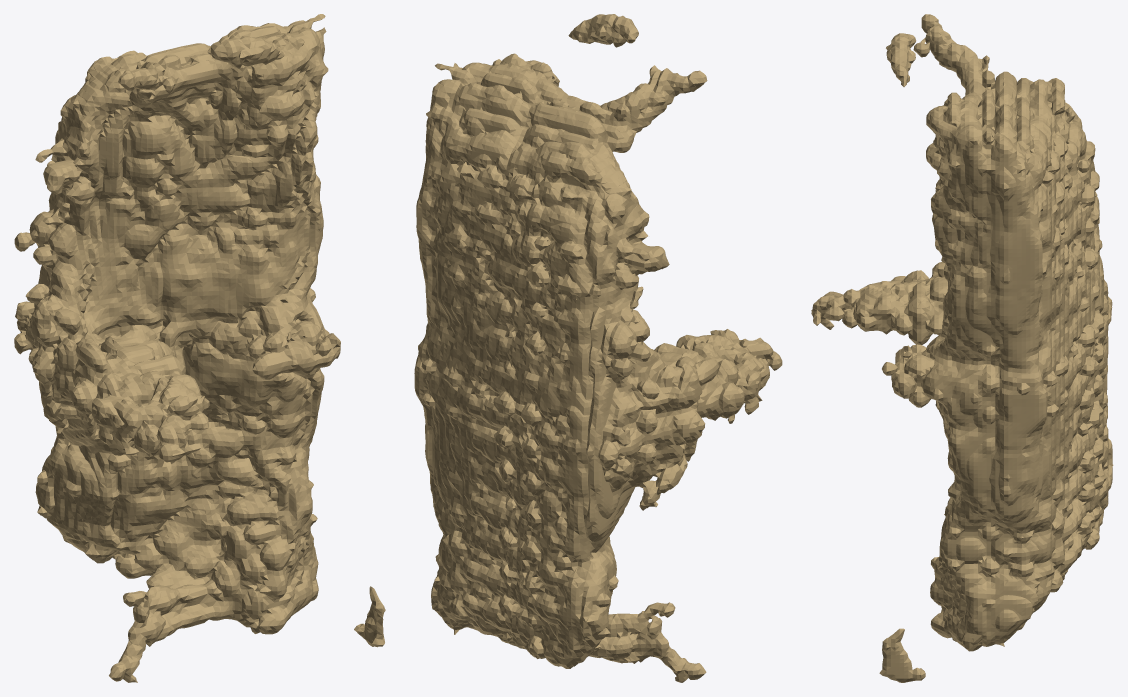
Rendered from raw.glb.
The picture shows the model from 3 angles, left to right: view 1: azimuth 30°, elevation 25°; view 2: azimuth 150°, elevation 25°; view 3: azimuth 270°, elevation 25°; orthographic projection. The views are drawn at different scales.
Parts seen in each view (by area): view 1: world; view 2: world; view 3: world.
Boxes of the visible parts, left/top/right/bottom form: world: left=14, top=14, right=385, bottom=682; world: left=414, top=14, right=782, bottom=682; world: left=811, top=14, right=1113, bottom=682.
Bounding box in the file's own units: 0.55 × 1.18 × 0.5512.
